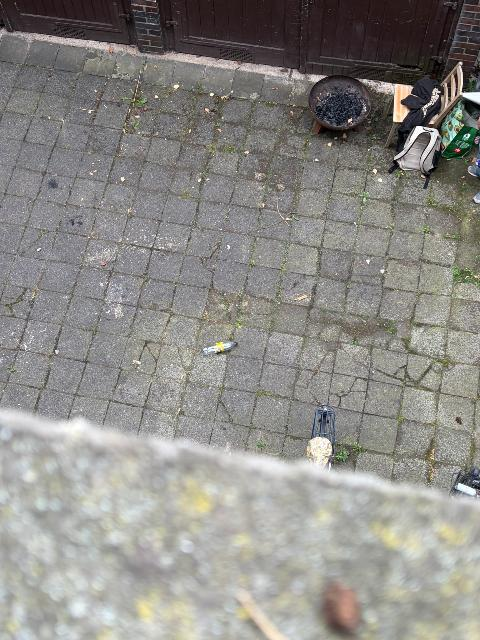plastic_bottle: (202, 342, 237, 355)
